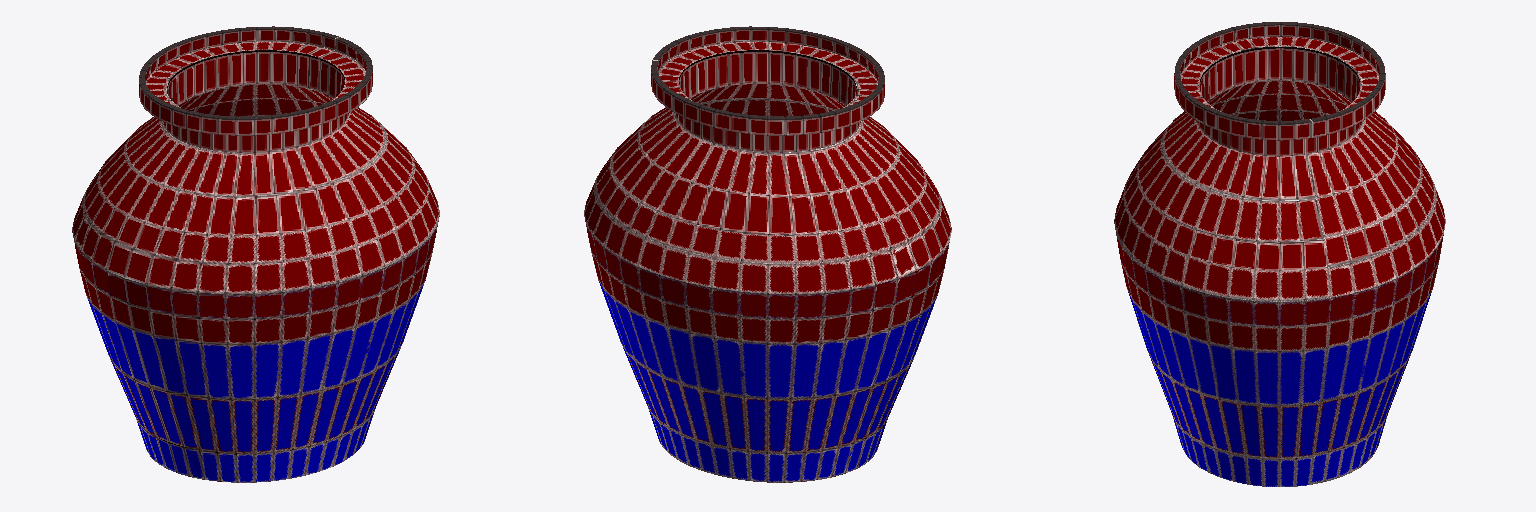
3 renders of one model, left to right at view 1: azimuth 30°, elevation 25°; view 2: azimuth 150°, elevation 25°; view 3: azimuth 270°, elevation 25°, orthographic.
Visible parts, largest first — view 1: Circle; view 2: Circle; view 3: Circle.
Boxes of the visible parts, x1,y1,x2,y2 form: Circle: [72, 26, 439, 482]; Circle: [584, 26, 951, 482]; Circle: [1114, 22, 1445, 486].
Bounding box in the file's own units: 4.75 × 5.06 × 4.15.
1 materials, 1 textured.